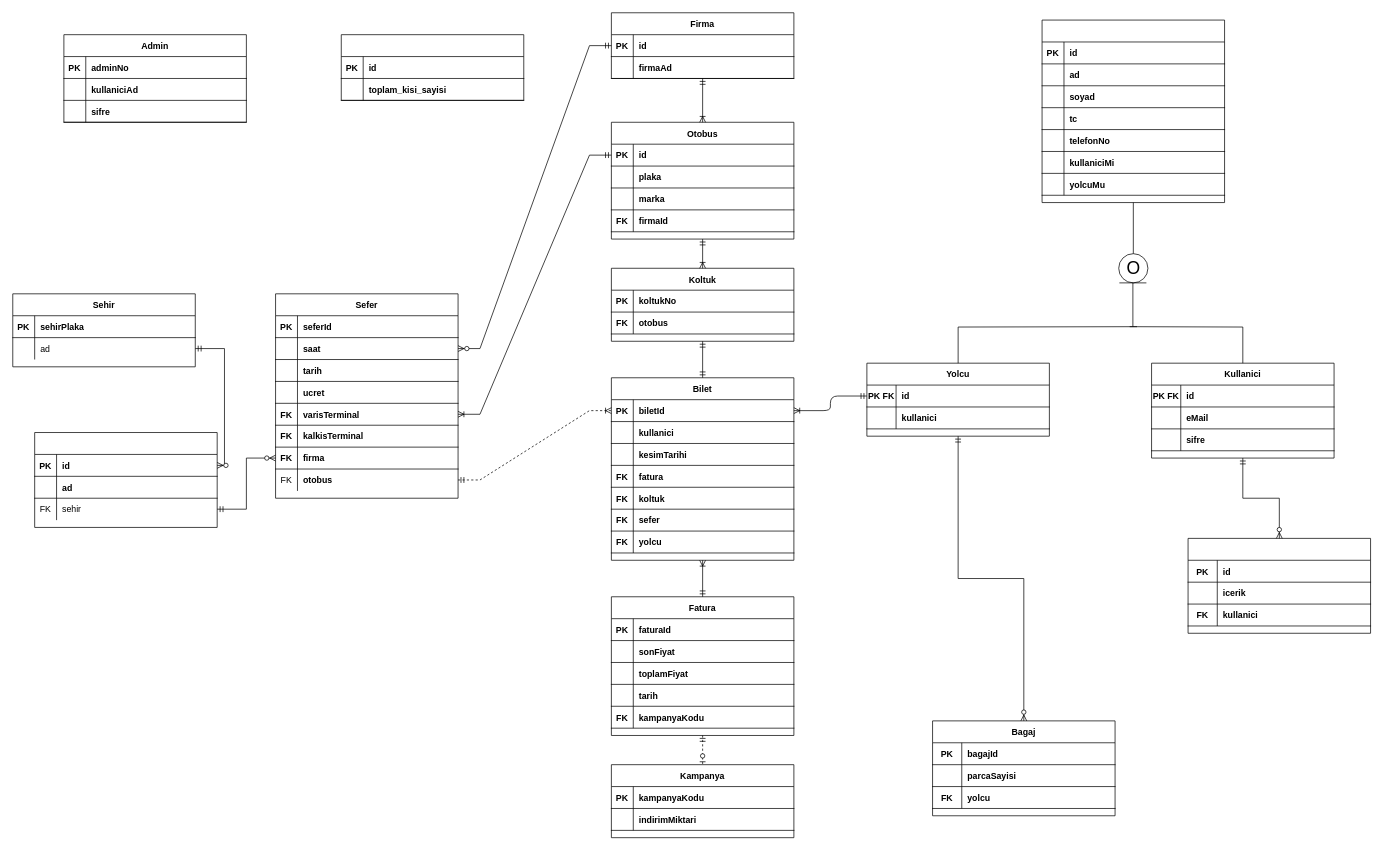
Some shapes in this 1383 by 850 pixel diagram are drawn without their labels. Each missing label, with the box of its shape:
Kisi: (1041, 19, 1225, 203)
kisiSayaci: (341, 34, 524, 100)
Terminal: (34, 432, 217, 527)
Yorum: (1187, 538, 1371, 633)
